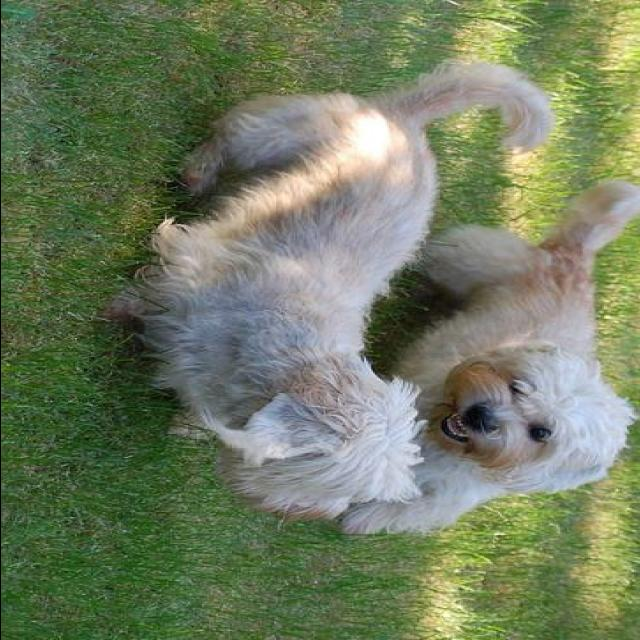dandie_dinmont: (99, 58, 557, 522), (344, 179, 635, 536)
